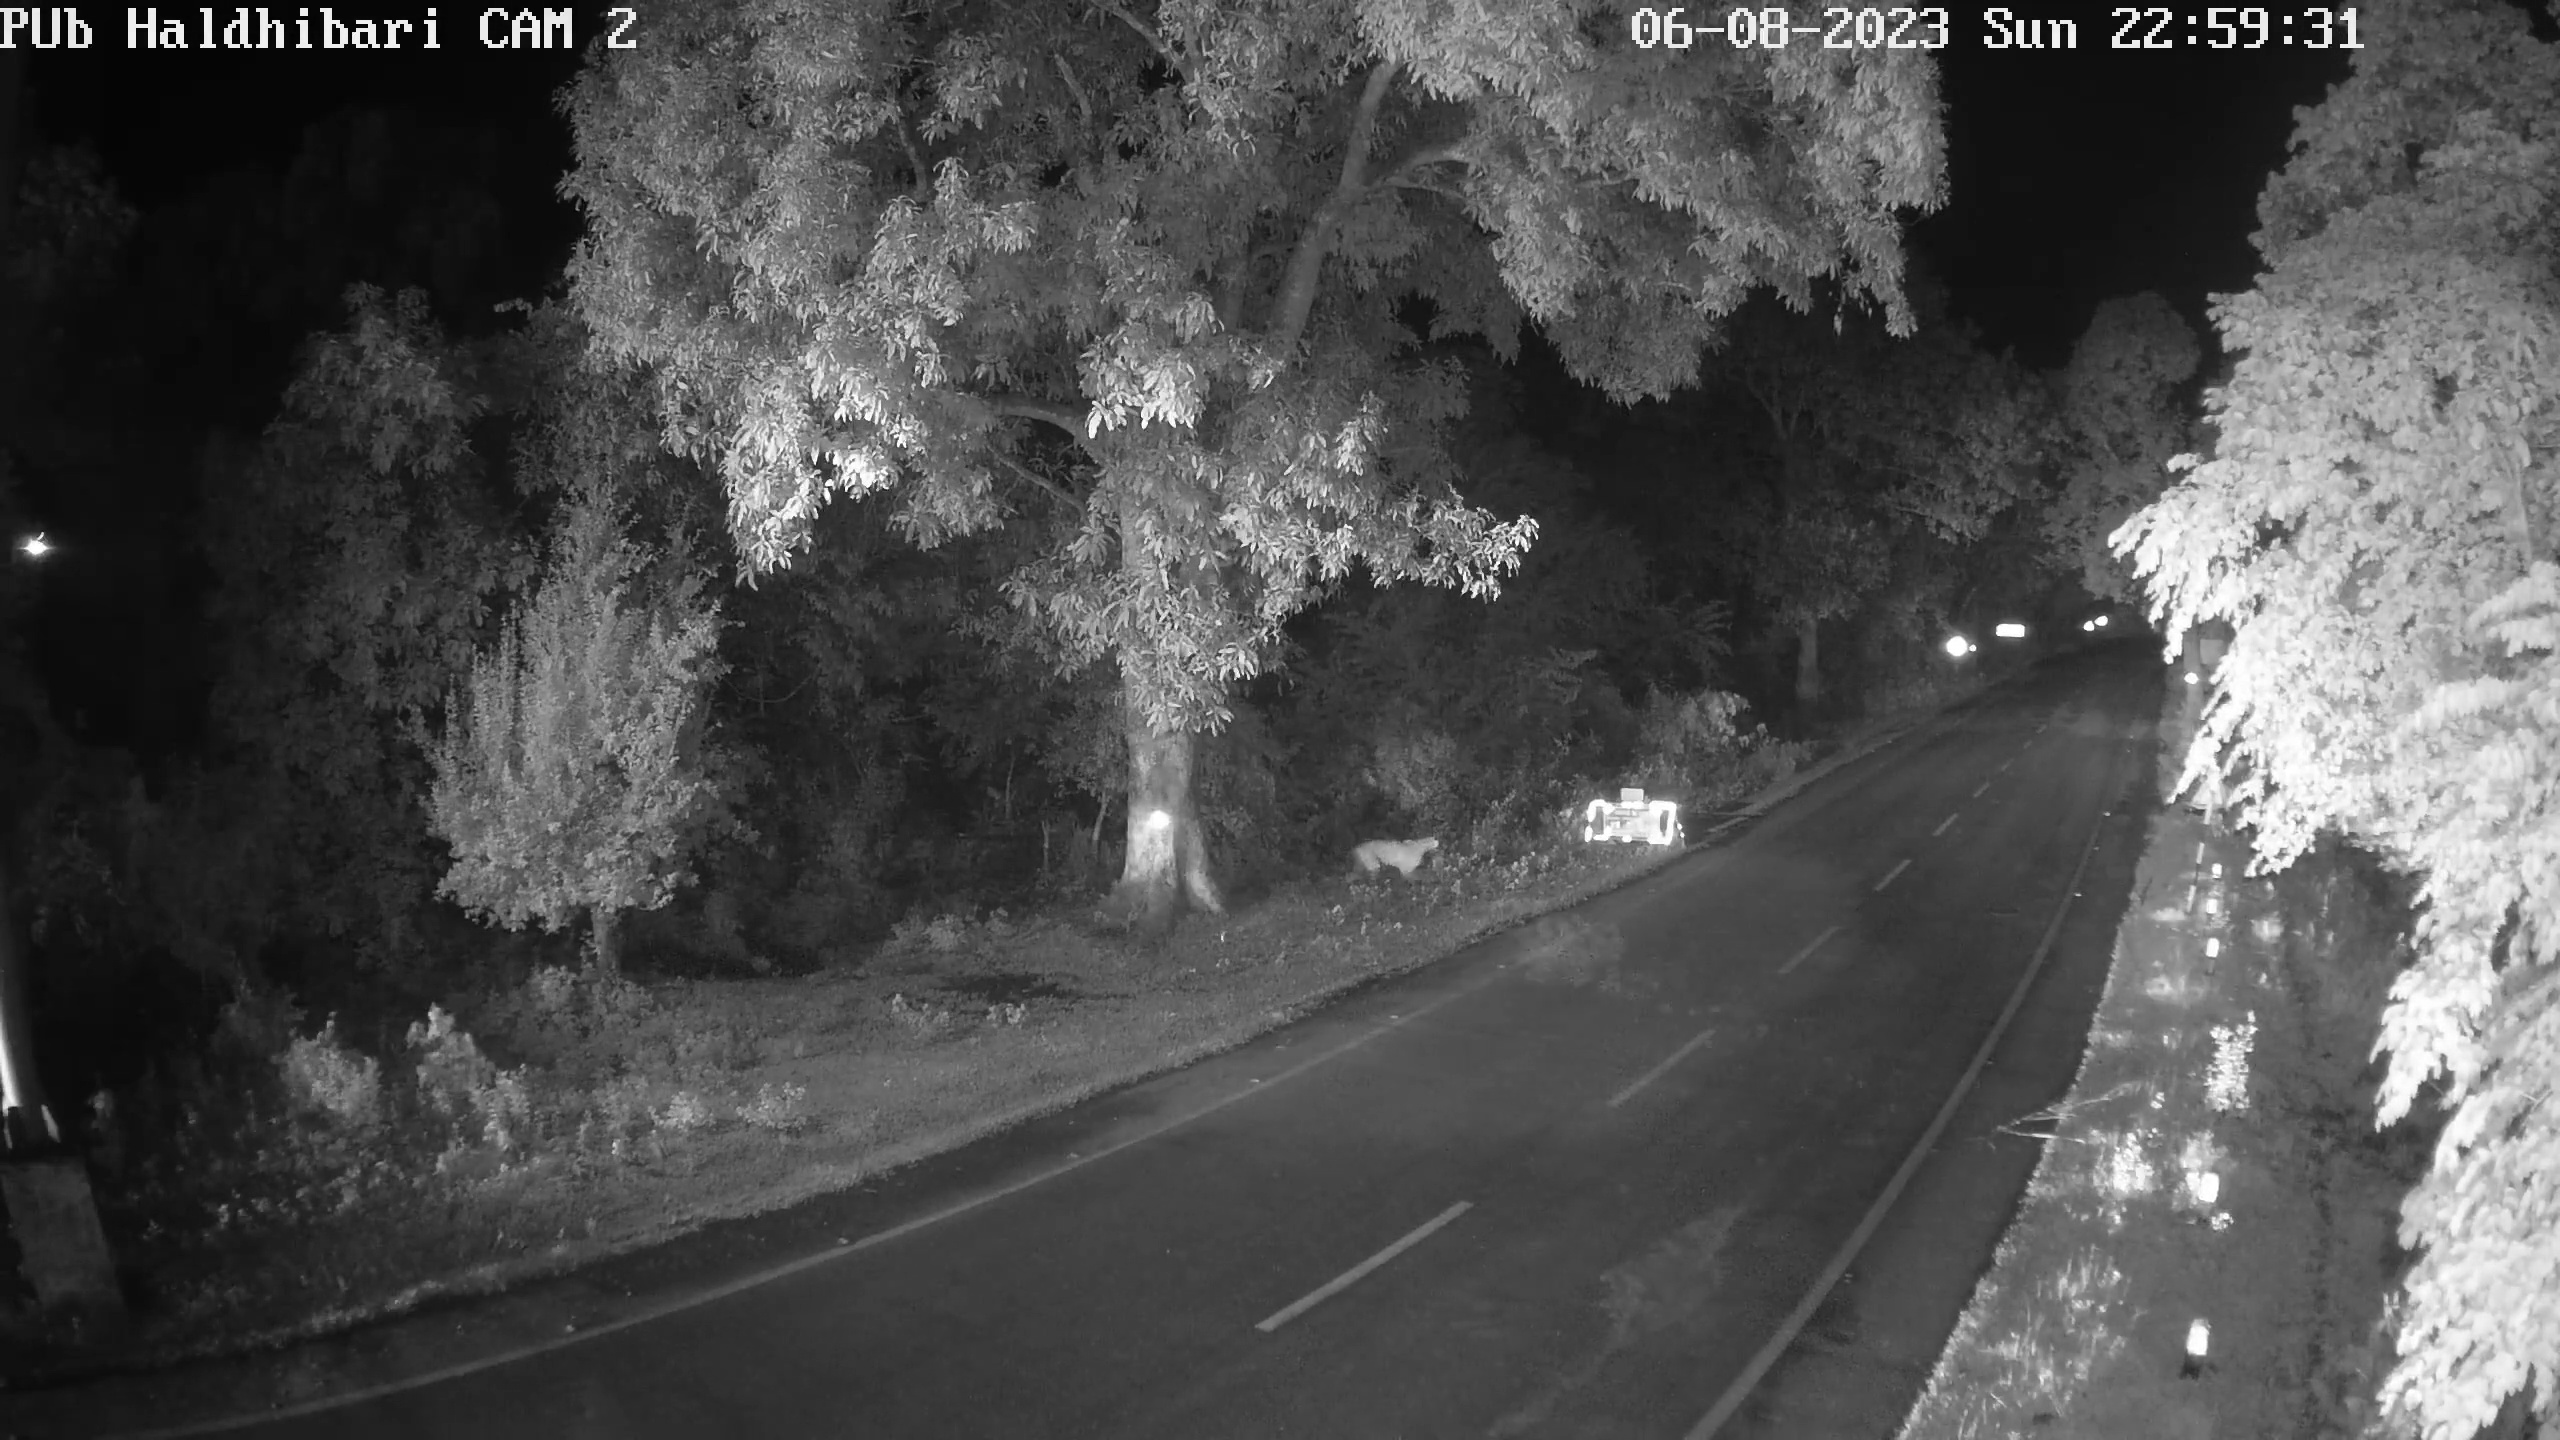tigers: (1352, 839, 1440, 874)
